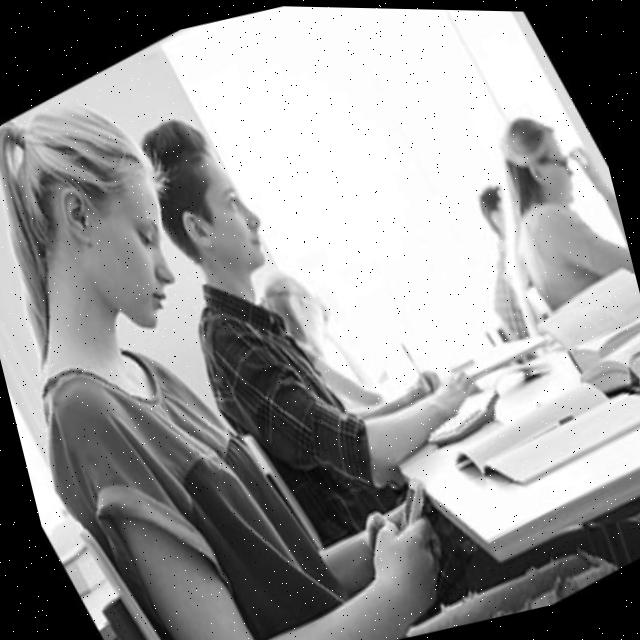phone: (376, 466, 442, 535), (568, 139, 592, 168)
